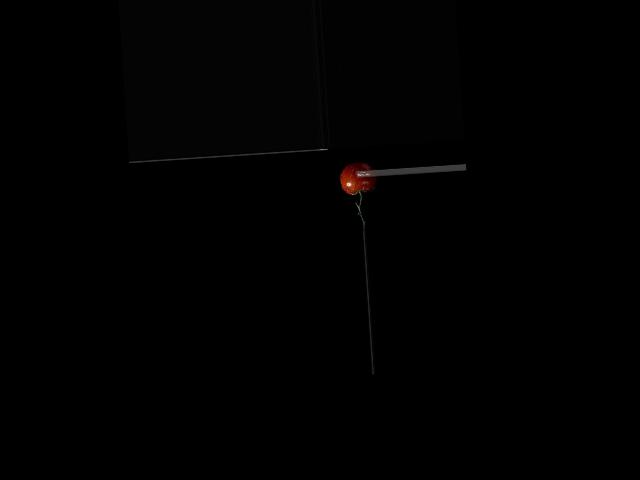tomato: (339, 162, 376, 194)
